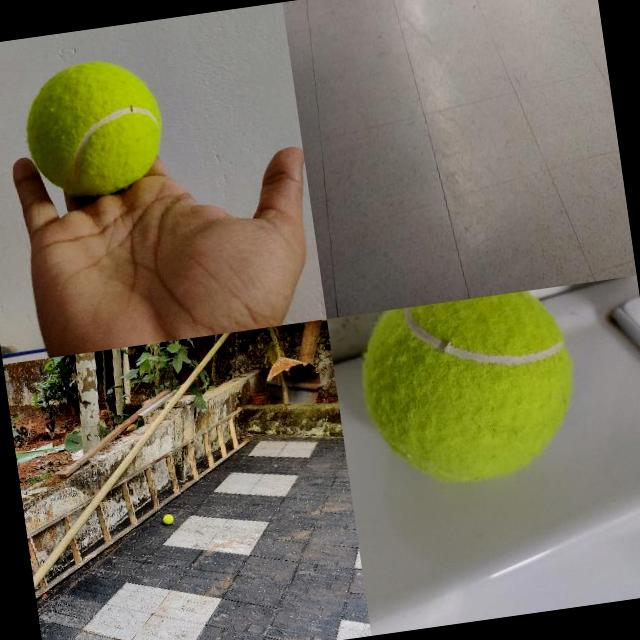Tennis Ball: (348, 286, 592, 500), (18, 52, 174, 206), (162, 514, 175, 524)
